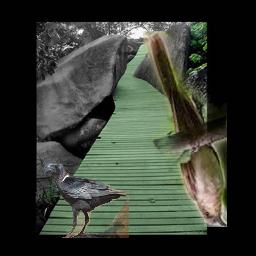Crow: (45, 162, 130, 239)
Cuckoo: (143, 31, 227, 227)
